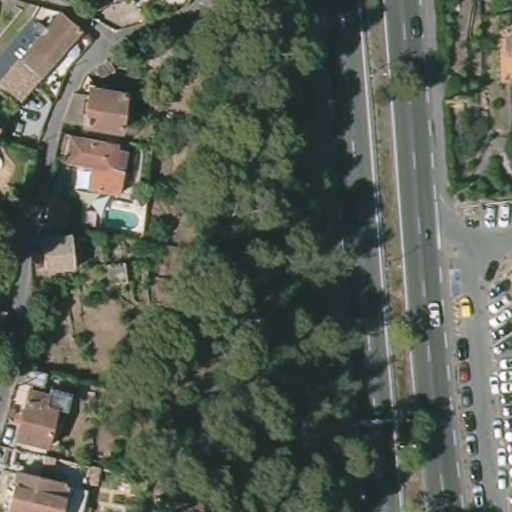pool: (95, 204, 144, 232)
